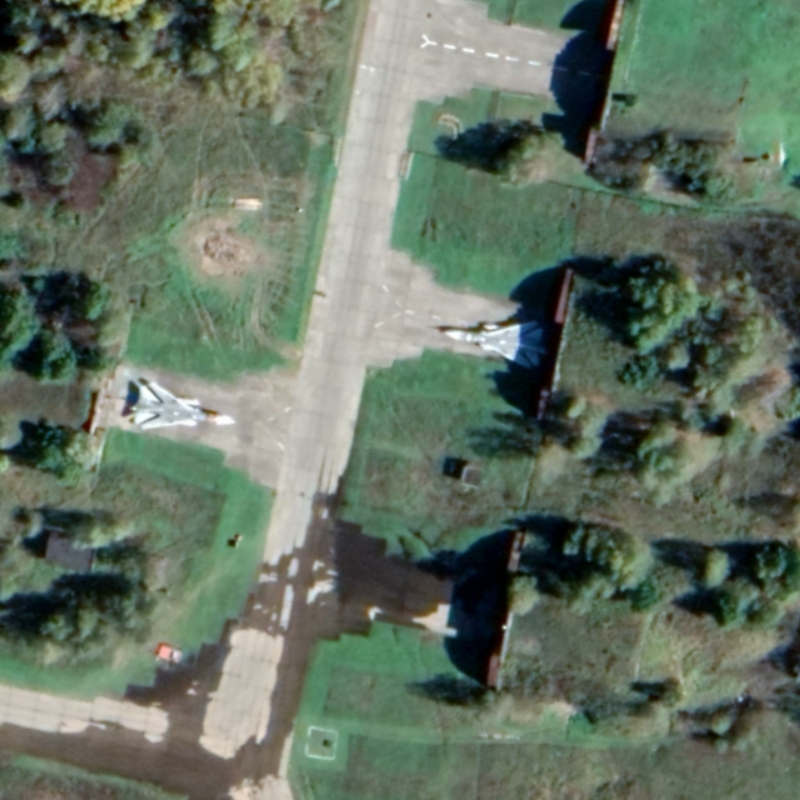A20: (132, 380, 238, 432), (442, 319, 545, 369)
